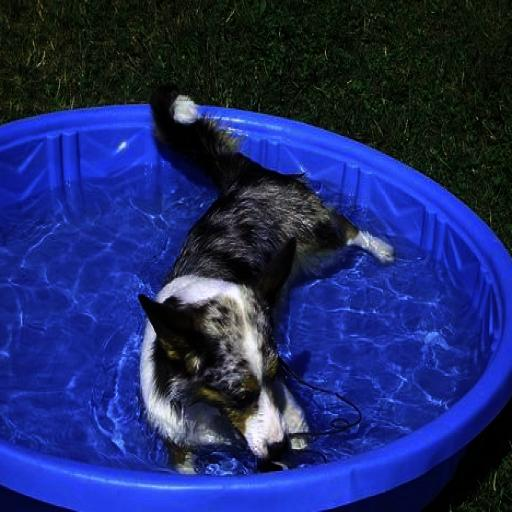dog_face: (141, 281, 320, 462)
